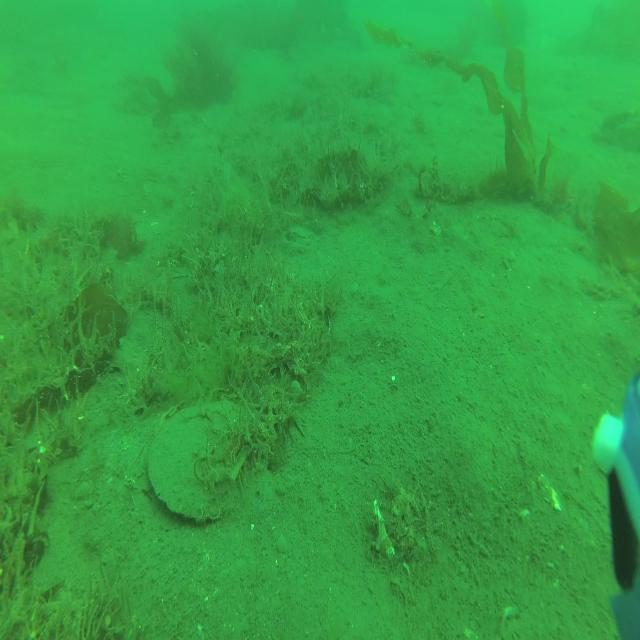scallop: (147, 399, 248, 526)
